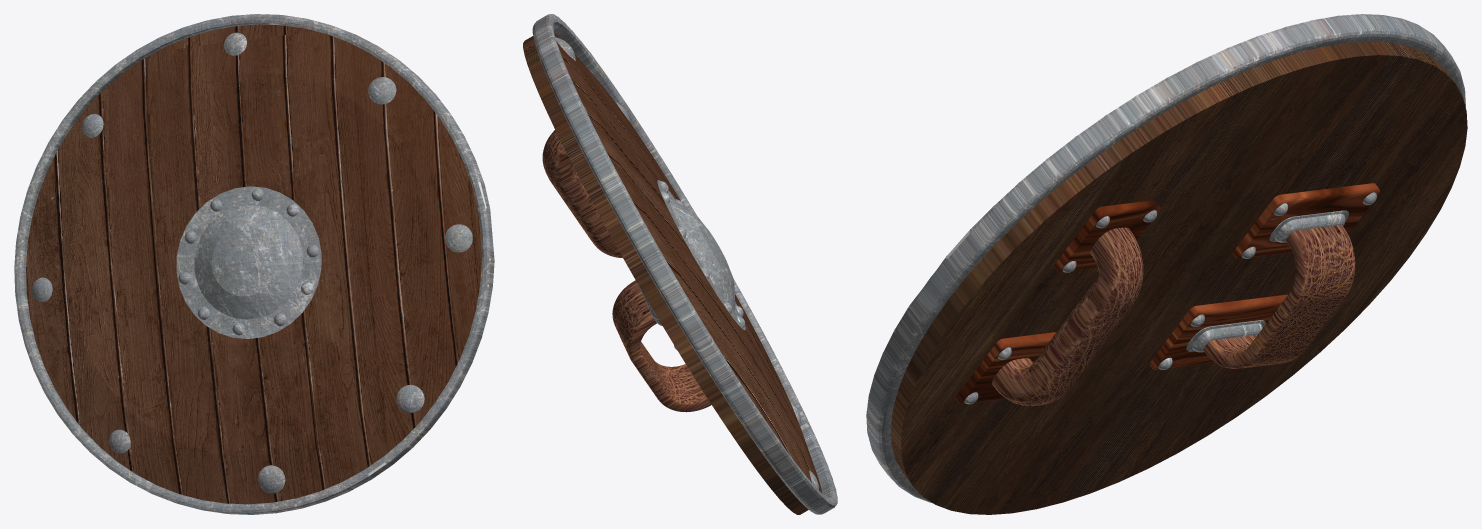
File: roskilde-vikingskjold-stillestaende.glb
3 renders of one model, left to right at view 1: azimuth 30°, elevation 25°; view 2: azimuth 150°, elevation 25°; view 3: azimuth 270°, elevation 25°, orthographic. The views are drawn at different scales.
Visible parts, largest first — view 1: skjold; view 2: skjold; view 3: skjold.
Part boxes in pixels (bbox=[...]): skjold: bbox=[14, 14, 494, 514]; skjold: bbox=[523, 14, 837, 514]; skjold: bbox=[866, 14, 1467, 514].
Size of the model in its own units: 0.7117 by 0.8269 by 0.8008.
6 materials, 5 textured.
